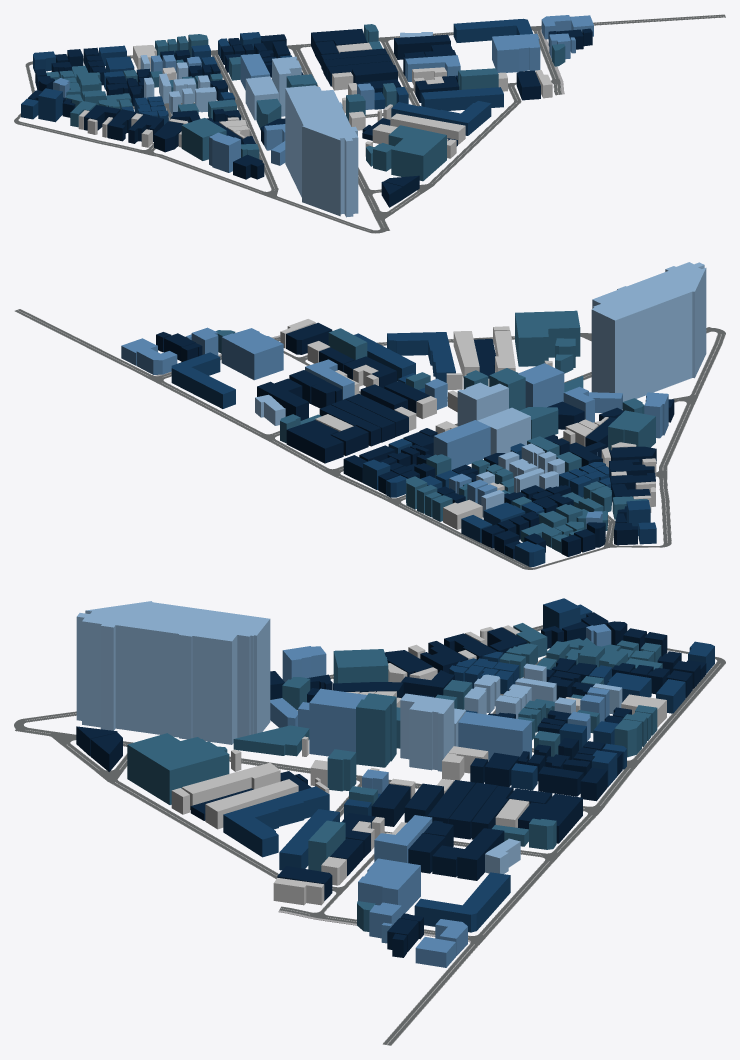
The model's file is seongsu.glb.
3 views of the same model, one above another, from view 1: azimuth 30°, elevation 25°; view 2: azimuth 150°, elevation 25°; view 3: azimuth 270°, elevation 25° (orthographic). The views are drawn at different scales.
Parts seen in each view (by area): view 1: mesh_CityEngineMaterial_1, mesh_CityEngineMaterial_2, mesh_CityEngineMaterial, mesh_CityEngineMaterial_6, mesh_CityEngineMaterial_5, mesh_CityEngineMaterial_3, mesh_Asphalt_TireMarkings_2x2_cBasaltGrey, mesh_Markings_Standard_1x1_cPureWhite, mesh_Asphalt_Standard_2x2_cBasaltGrey; view 2: mesh_CityEngineMaterial_1, mesh_CityEngineMaterial_2, mesh_CityEngineMaterial, mesh_CityEngineMaterial_5, mesh_CityEngineMaterial_6, mesh_CityEngineMaterial_3, mesh_Asphalt_TireMarkings_2x2_cBasaltGrey, mesh_Markings_Standard_1x1_cPureWhite, mesh_Asphalt_Standard_2x2_cBasaltGrey; view 3: mesh_CityEngineMaterial_2, mesh_CityEngineMaterial_1, mesh_CityEngineMaterial, mesh_CityEngineMaterial_5, mesh_CityEngineMaterial_6, mesh_CityEngineMaterial_3, mesh_Asphalt_TireMarkings_2x2_cBasaltGrey, mesh_Markings_Standard_1x1_cPureWhite, mesh_Asphalt_Standard_2x2_cBasaltGrey.
Part boxes in pixels (box(x1,y1,x2,y2)): mesh_CityEngineMaterial_1: box(28, 28, 592, 207); mesh_CityEngineMaterial_2: box(140, 32, 432, 217); mesh_CityEngineMaterial: box(46, 24, 565, 181); mesh_CityEngineMaterial_6: box(21, 18, 533, 135); mesh_CityEngineMaterial_5: box(53, 15, 593, 172); mesh_CityEngineMaterial_3: box(78, 42, 552, 158); mesh_Asphalt_TireMarkings_2x2_cBasaltGrey: box(16, 14, 725, 232); mesh_Markings_Standard_1x1_cPureWhite: box(16, 14, 724, 230); mesh_Asphalt_Standard_2x2_cBasaltGrey: box(14, 25, 560, 233); mesh_CityEngineMaterial_1: box(156, 322, 674, 559); mesh_CityEngineMaterial_2: box(255, 262, 706, 517); mesh_CityEngineMaterial: box(216, 310, 655, 552); mesh_CityEngineMaterial_5: box(121, 327, 668, 528); mesh_CityEngineMaterial_6: box(171, 332, 656, 566); mesh_CityEngineMaterial_3: box(280, 319, 656, 529); mesh_Asphalt_TireMarkings_2x2_cBasaltGrey: box(15, 309, 725, 568); mesh_Markings_Standard_1x1_cPureWhite: box(18, 309, 725, 567); mesh_Asphalt_Standard_2x2_cBasaltGrey: box(146, 327, 725, 569); mesh_CityEngineMaterial_2: box(76, 601, 622, 873); mesh_CityEngineMaterial_1: box(76, 612, 706, 957); mesh_CityEngineMaterial: box(127, 623, 662, 931); mesh_CityEngineMaterial_5: box(270, 624, 611, 967); mesh_CityEngineMaterial_6: box(223, 598, 714, 932); mesh_CityEngineMaterial_3: box(171, 625, 666, 905); mesh_Asphalt_TireMarkings_2x2_cBasaltGrey: box(15, 625, 724, 1045); mesh_Markings_Standard_1x1_cPureWhite: box(17, 625, 724, 1045); mesh_Asphalt_Standard_2x2_cBasaltGrey: box(14, 657, 725, 944).
Bounding box in the file's own units: 517 × 60.01 × 363.
12 materials, 5 textured.
